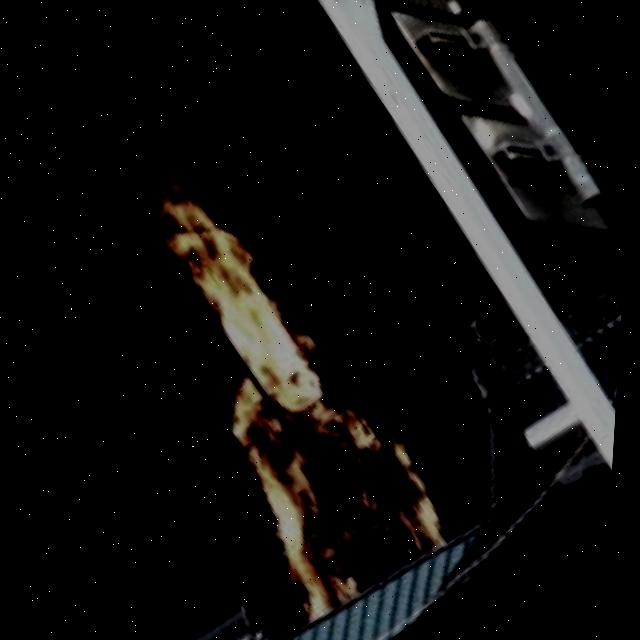Fire: (124, 173, 486, 586)
